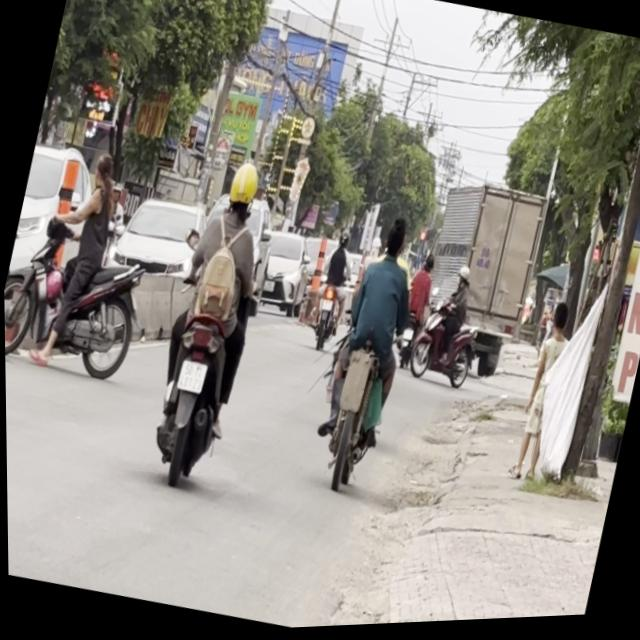helmet: (220, 158, 261, 219)
licenseplate: (130, 149, 287, 492), (2, 125, 171, 386), (297, 206, 431, 499)
motorcyclist: (380, 215, 408, 259), (89, 149, 115, 190)
nohelmet: (173, 356, 206, 394)
